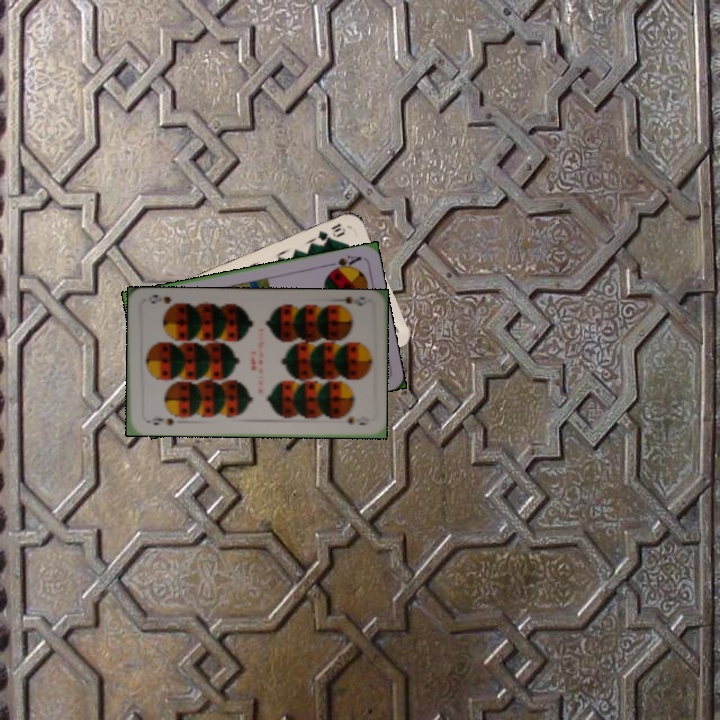G10: (314, 219, 349, 243)
S9: (331, 293, 371, 308), (141, 414, 178, 427)
SA: (324, 251, 364, 275)
